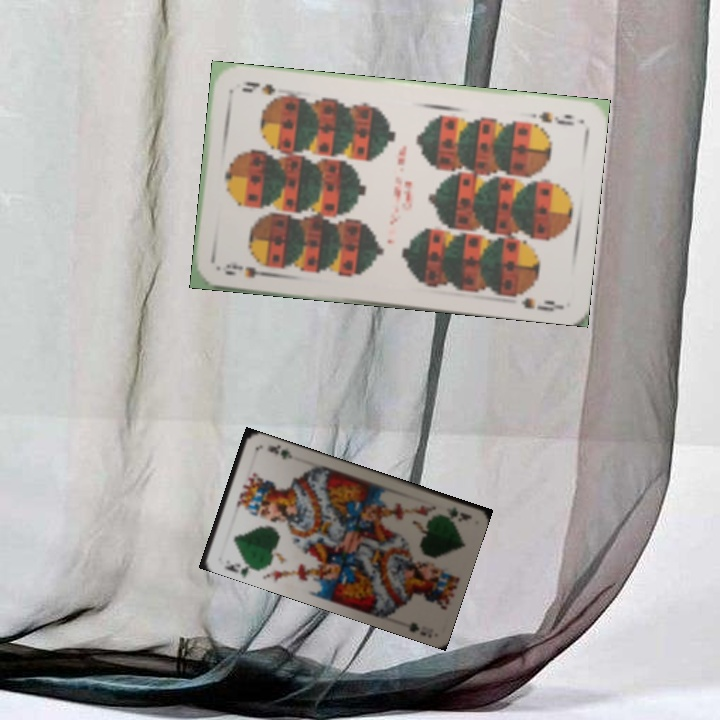GK: (220, 557, 257, 578), (445, 503, 473, 524)
S9: (221, 258, 275, 281), (535, 107, 576, 128)
